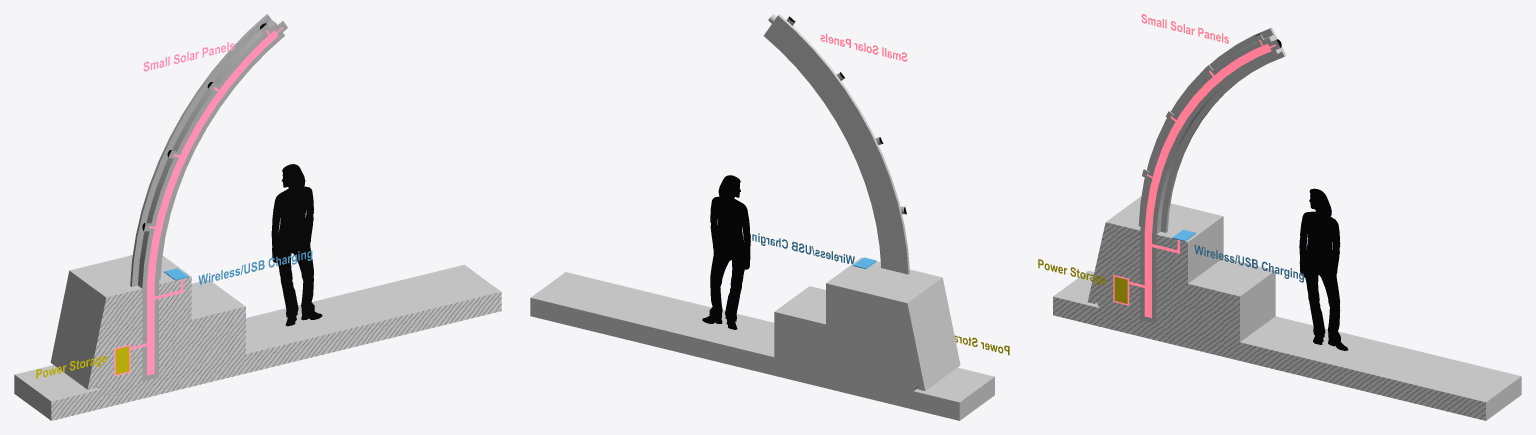
3 views of the same model, side by side, from view 1: azimuth 30°, elevation 25°; view 2: azimuth 150°, elevation 25°; view 3: azimuth 330°, elevation 25° (orthographic). The views are drawn at different scales.
Visible parts, largest first — view 1: Material2 (×7); view 2: Material2 (×5); view 3: Material2 (×7).
Part boxes in pixels (x1,y1,x2,y2): Material2 (×7): (14, 14, 501, 420); Material2 (×5): (530, 14, 994, 420); Material2 (×7): (1053, 14, 1521, 420).
Size of the model in its own units: 1.04 by 0.7447 by 0.1433.
Materials: 7 (1 with a texture image).
